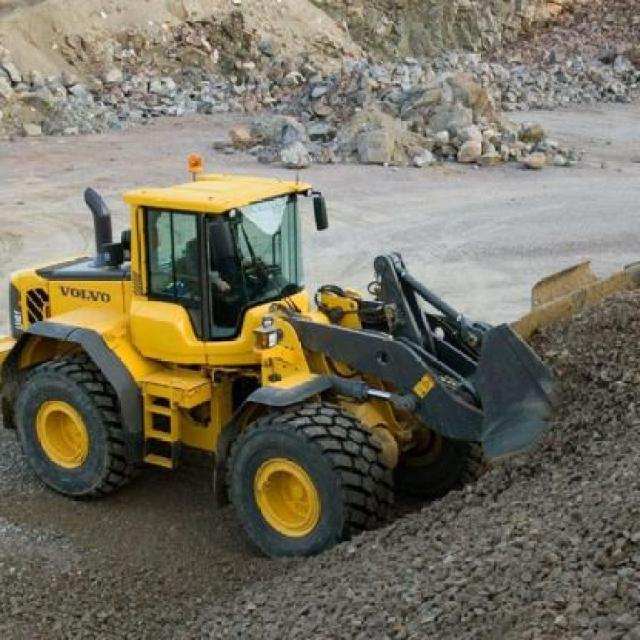buldozerpayloadergrader: (3, 167, 475, 561)
